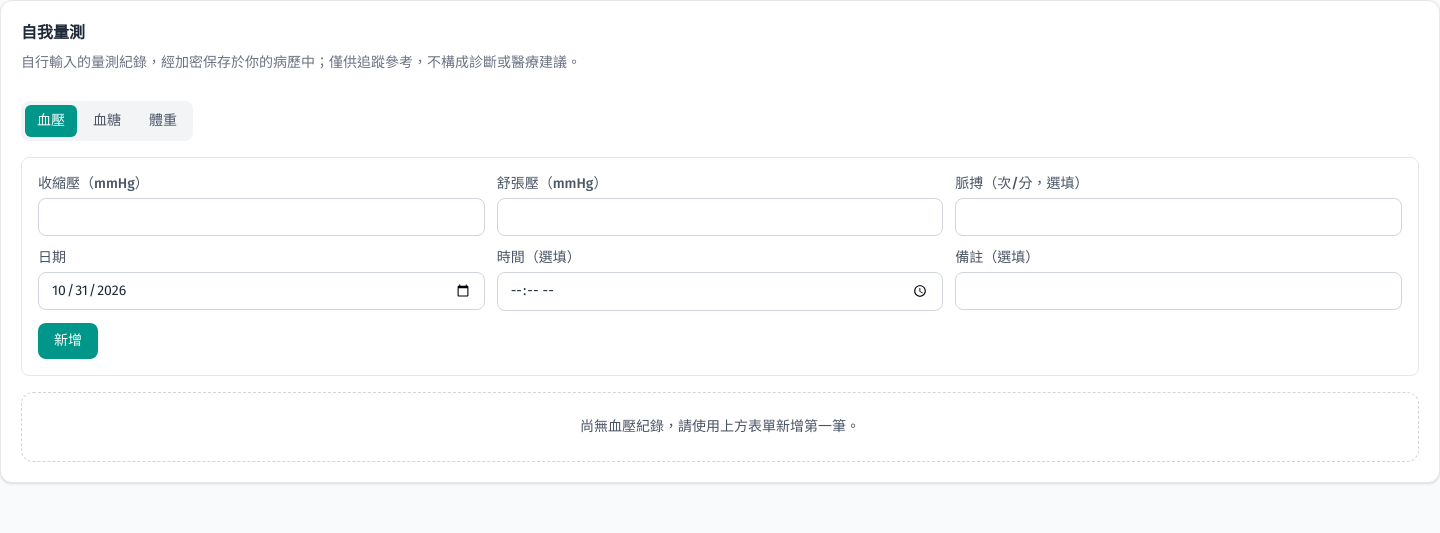
Test: Measurements 自我量測 › 新增紀錄 › 收縮壓空白 → 顯示錯誤且不新增
Type "80" into the field labelled "舒張壓（mmHg）" at (720, 217), box [497, 198, 943, 236]
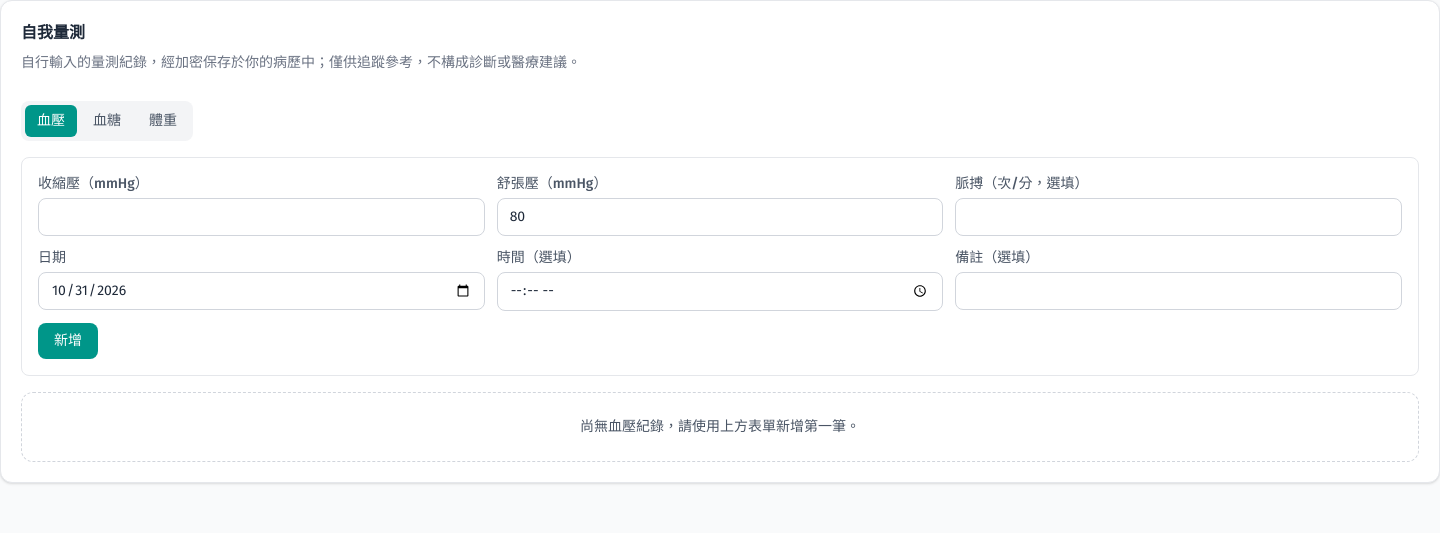
Click the button "新增" at (68, 341), box [38, 323, 98, 359]
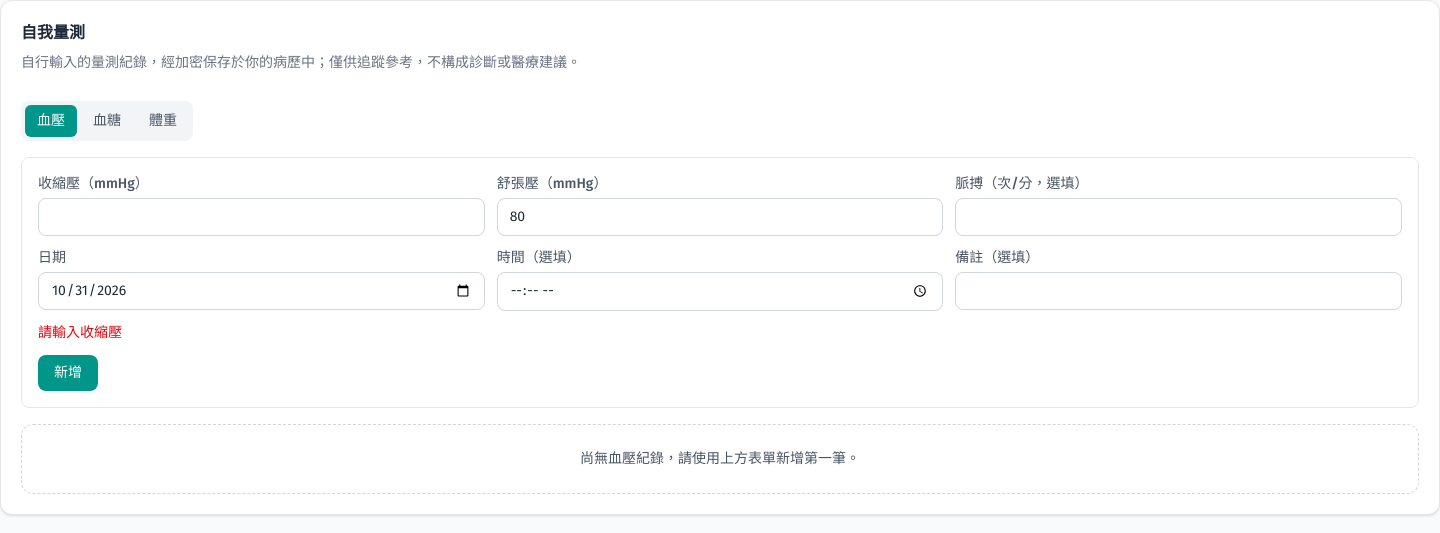
Expected: the message reads "請輸入收縮壓", [38, 324, 122, 341]
